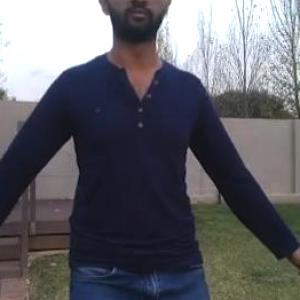land: (1, 0, 286, 299)
